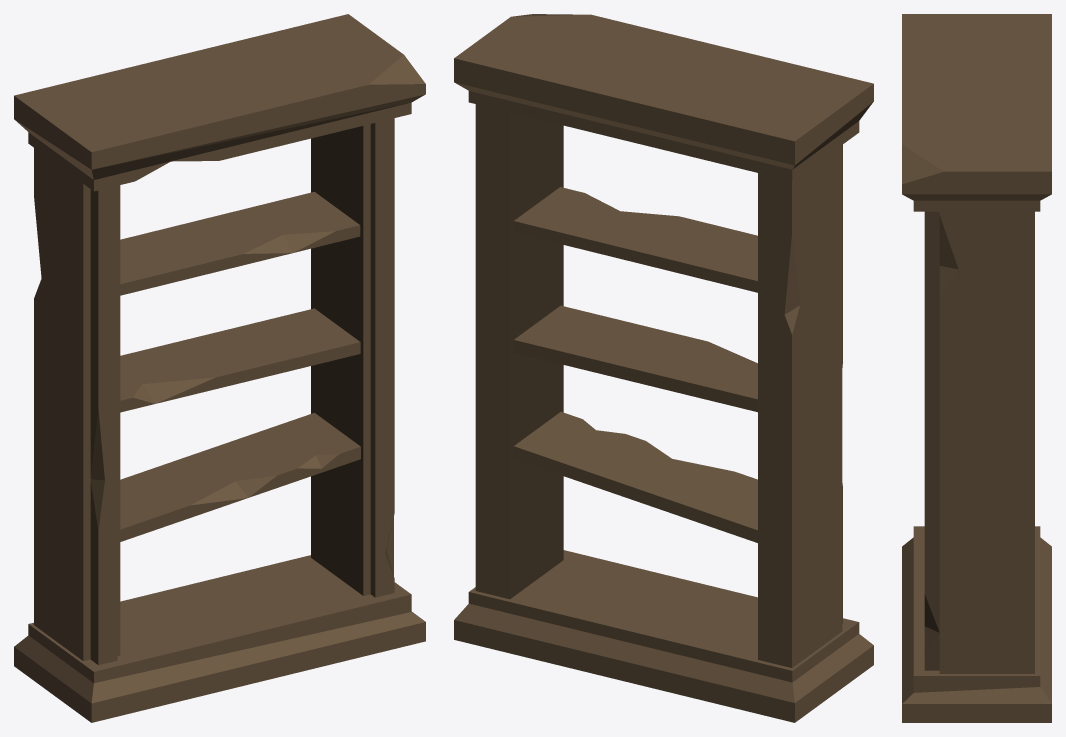
File: SM_Prop_Bookshelf_03.fbx
3 views of the same model, side by side, from view 1: azimuth 30°, elevation 25°; view 2: azimuth 150°, elevation 25°; view 3: azimuth 270°, elevation 25° (orthographic). The views are drawn at different scales.
Parts seen in each view (by area): view 1: SM_Prop_Bookshelf_03; view 2: SM_Prop_Bookshelf_03; view 3: SM_Prop_Bookshelf_03.
Part boxes in pixels (x1,y1,x2,y2): SM_Prop_Bookshelf_03: [14, 14, 425, 722]; SM_Prop_Bookshelf_03: [454, 14, 873, 722]; SM_Prop_Bookshelf_03: [902, 14, 1051, 722].
Bounding box in the file's own units: 150 × 245 × 60.35.
